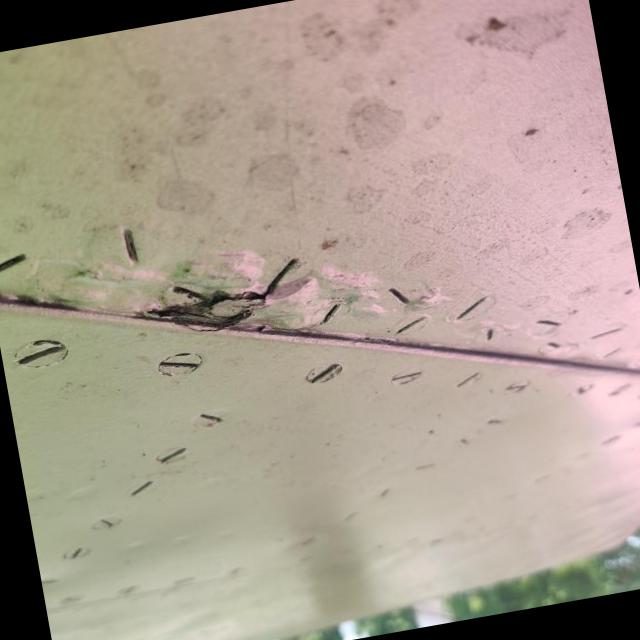Paint-off: (143, 251, 298, 329)
